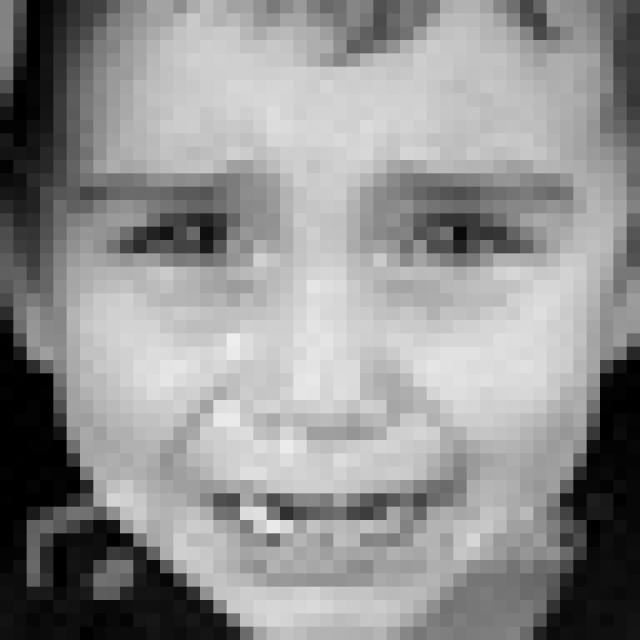sad: (61, 145, 578, 592)
